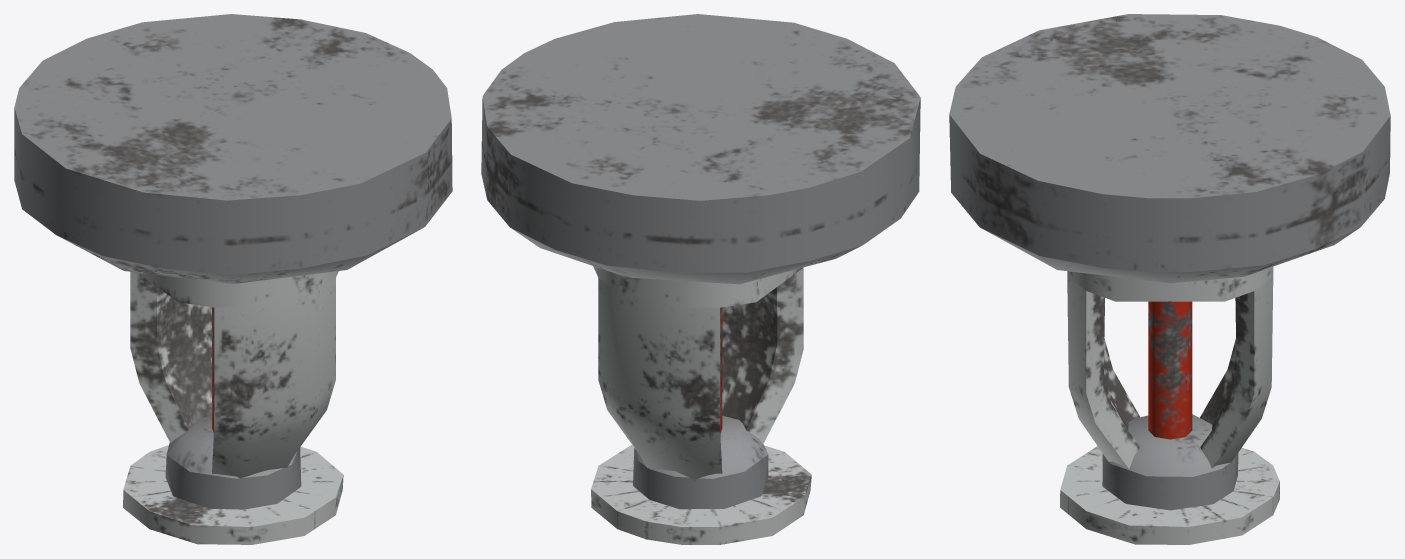
Rendered from SM_Ceiling_Springler.fbx.
3 renders of one model, left to right at view 1: azimuth 30°, elevation 25°; view 2: azimuth 150°, elevation 25°; view 3: azimuth 270°, elevation 25°, orthographic.
Visible parts, largest first — view 1: SM_Ceiling_Springler_LOD0; view 2: SM_Ceiling_Springler_LOD0; view 3: SM_Ceiling_Springler_LOD0.
Boxes of the visible parts, x1=… form: SM_Ceiling_Springler_LOD0: x1=14, y1=14, x2=452, y2=544; SM_Ceiling_Springler_LOD0: x1=481, y1=14, x2=920, y2=544; SM_Ceiling_Springler_LOD0: x1=949, y1=14, x2=1390, y2=544.
Size of the model in its own units: 15.41 by 15.59 by 15.92.
1 material, 1 textured.
